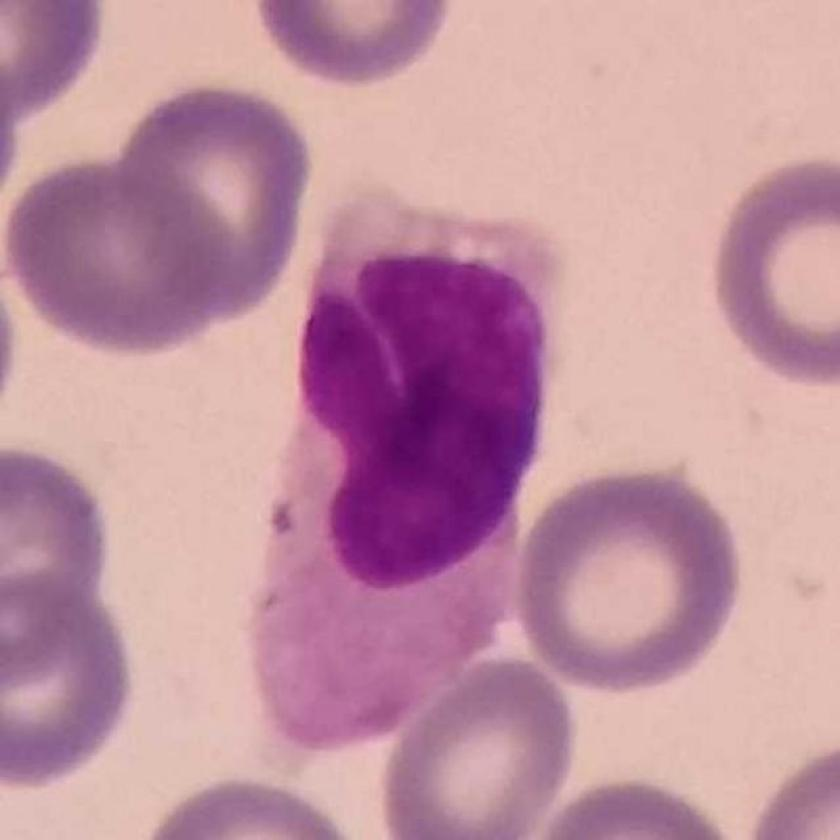monocyte: (264, 166, 546, 752)
